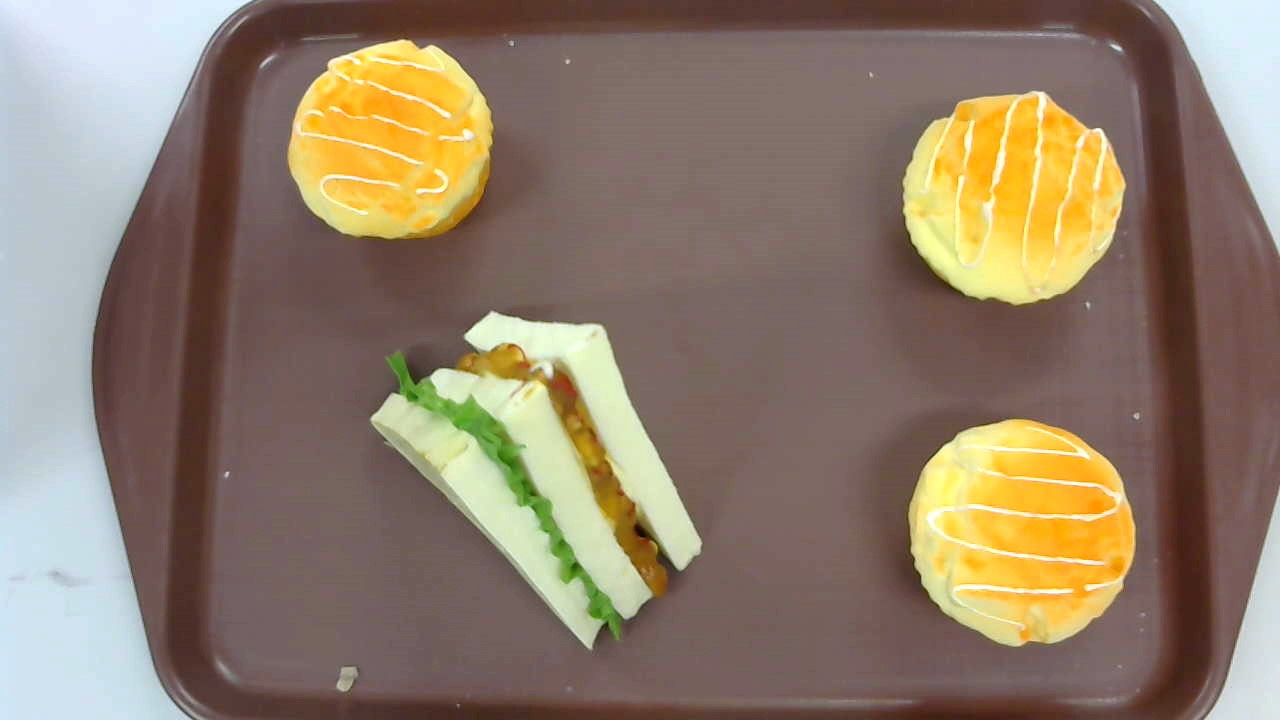cupcake: (908, 417, 1137, 647), (902, 87, 1128, 307), (288, 37, 496, 240)
sandwich: (369, 307, 704, 649)
